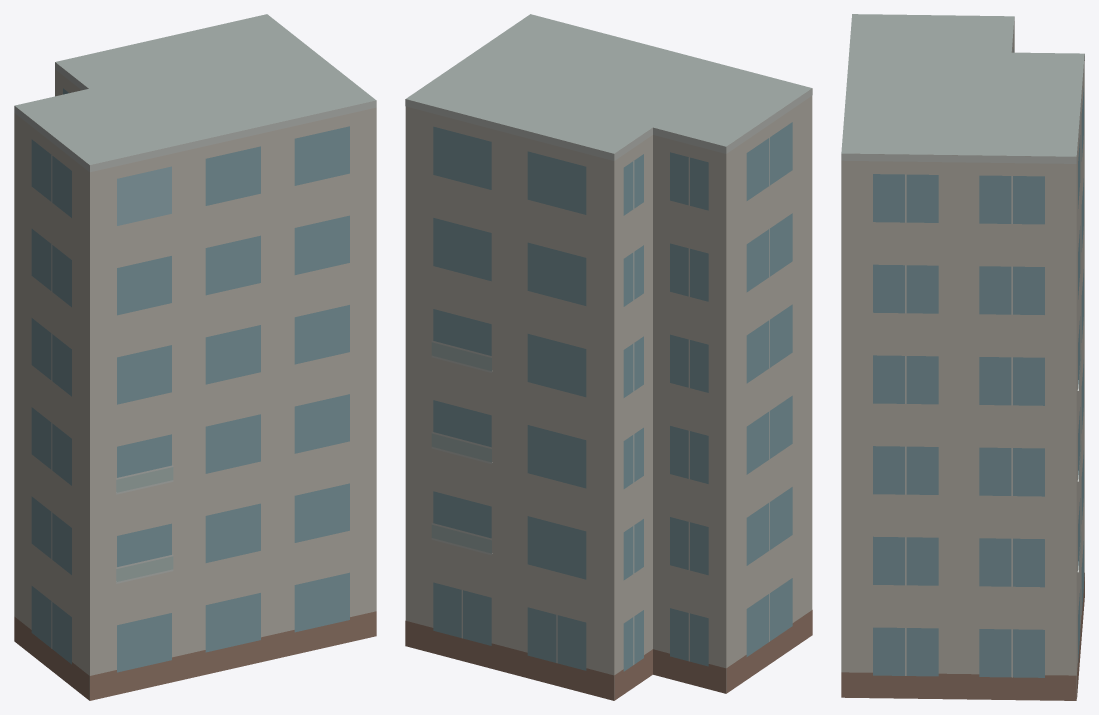
The model's file is survey-upis-32990307.glb.
The picture shows the model from 3 angles, left to right: view 1: azimuth 30°, elevation 25°; view 2: azimuth 150°, elevation 25°; view 3: azimuth 270°, elevation 25°; orthographic projection. The views are drawn at different scales.
Visible parts, largest first — view 1: survey-upis-32990307.tmp; view 2: survey-upis-32990307.tmp; view 3: survey-upis-32990307.tmp.
Part boxes in pixels (left/top/right/bottom): survey-upis-32990307.tmp: left=14, top=14, right=376, bottom=700; survey-upis-32990307.tmp: left=405, top=14, right=812, bottom=700; survey-upis-32990307.tmp: left=841, top=14, right=1084, bottom=700.
Size of the model in its own units: 10.3 by 18.3 by 7.43.
